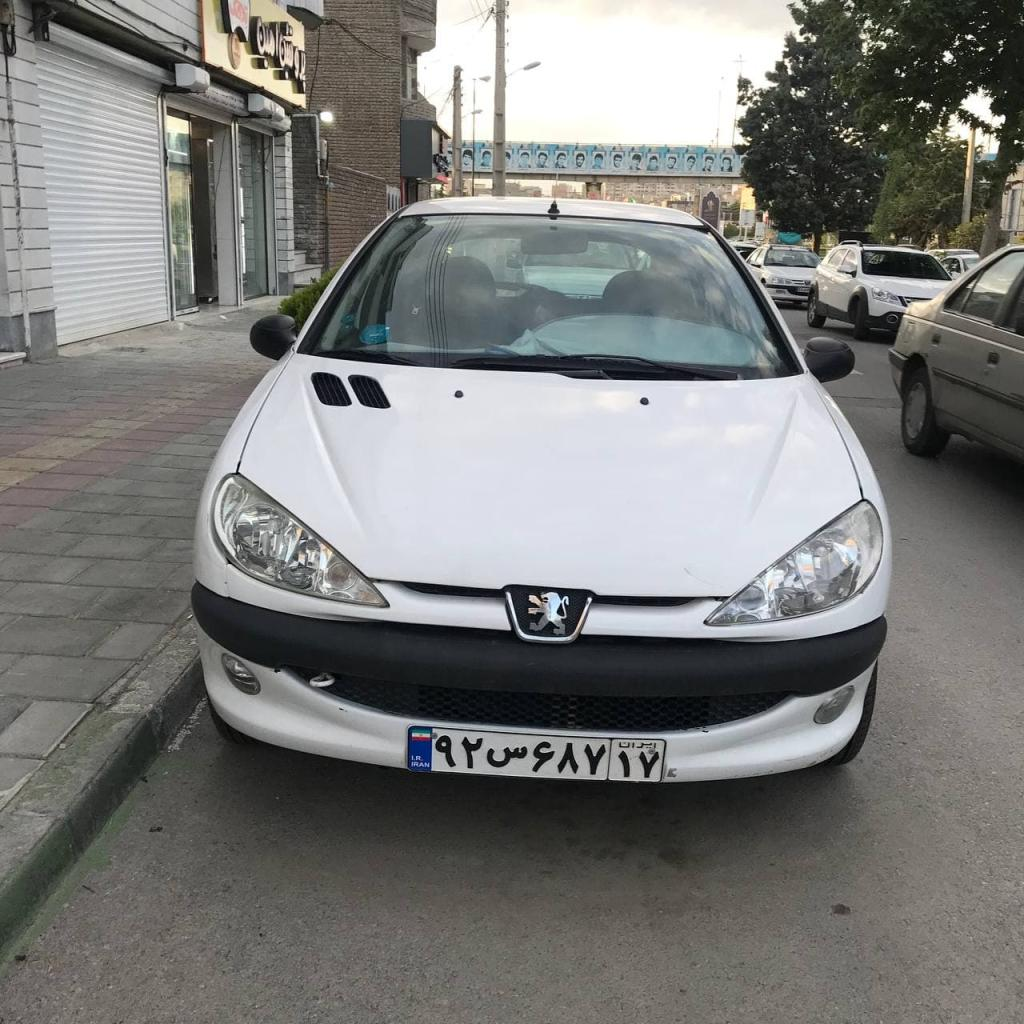Plates: (409, 726, 665, 780)
